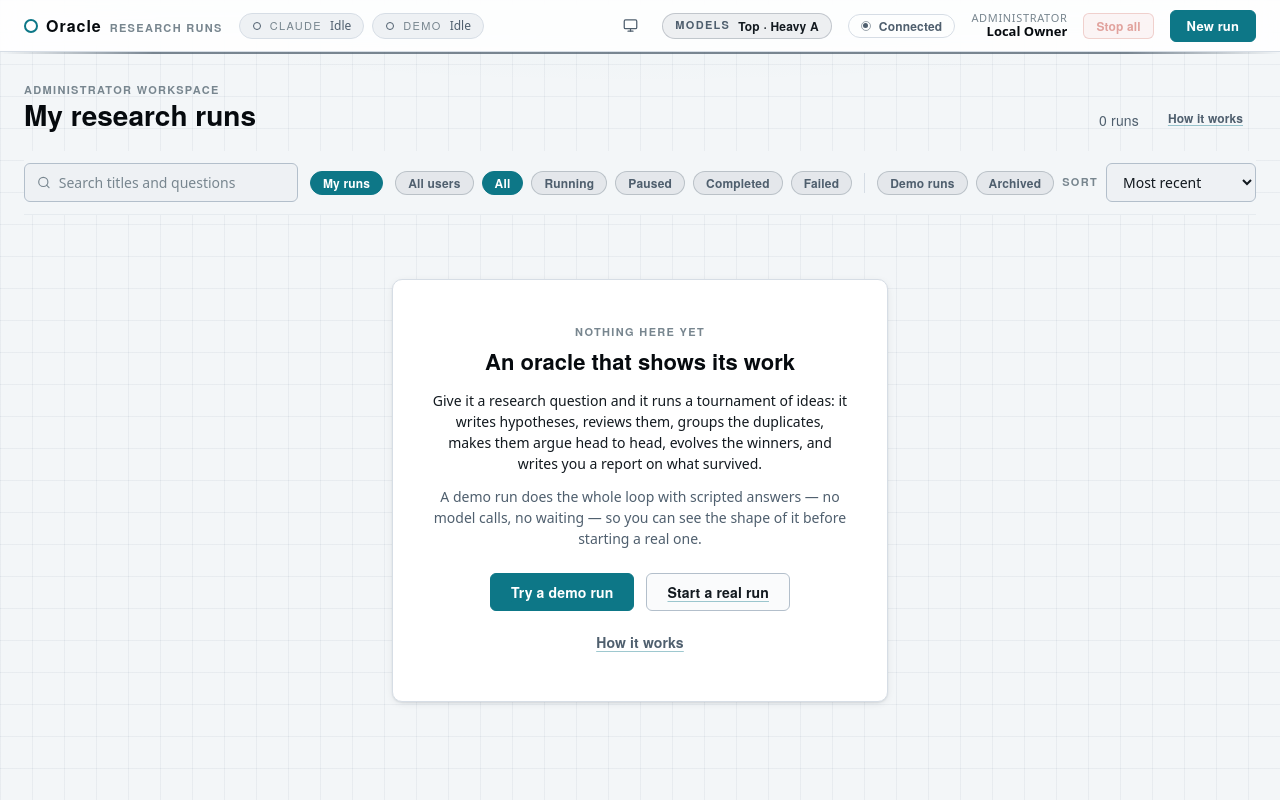
model editor — what it warns about › flags a step that searches the web set to a model that cannot
Click the button "Models Top · Heavy A".
click(747, 26)  # box [662,12,832,38]
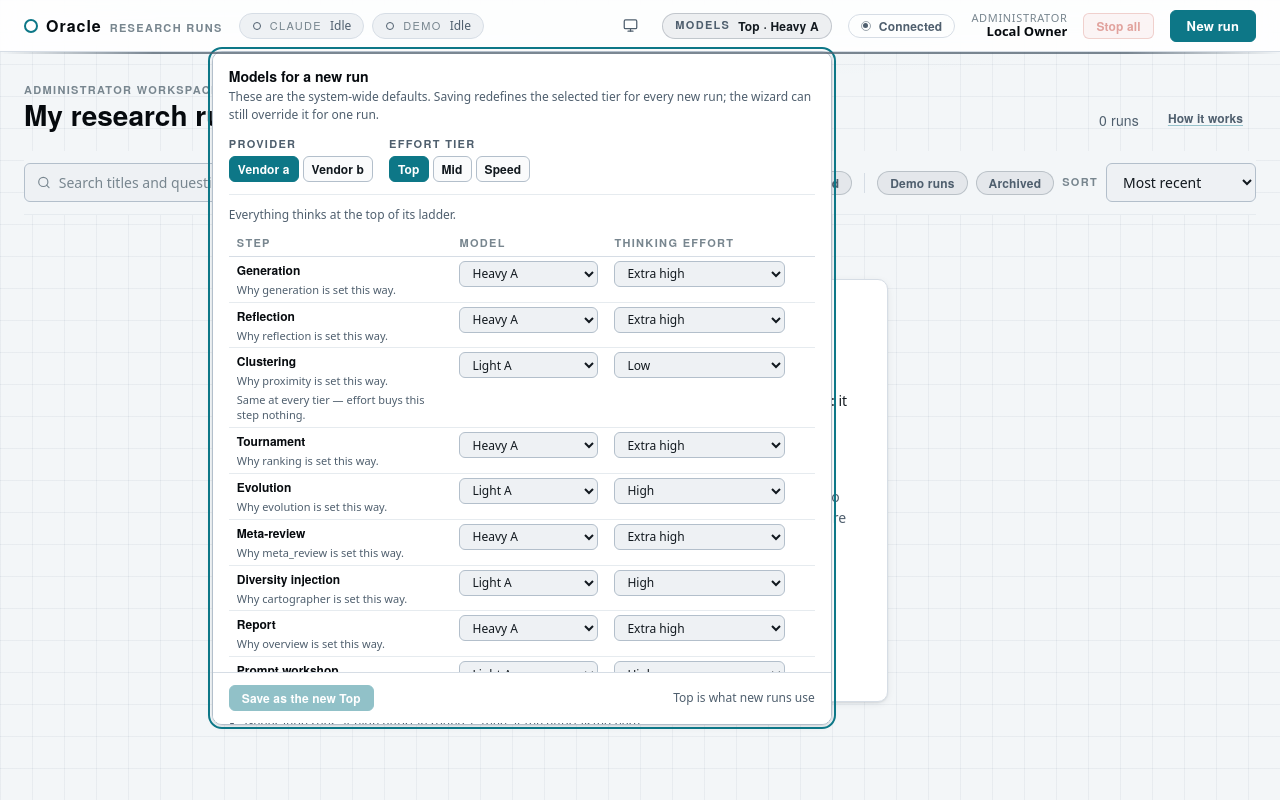
Expected: the text "search the web" is not shown
Result: the 1st dropdown named "Model for Generation" is shown
Select "Light B" in the 1st dropdown named "Model for Generation" at (529, 274), box [460,261,598,287]
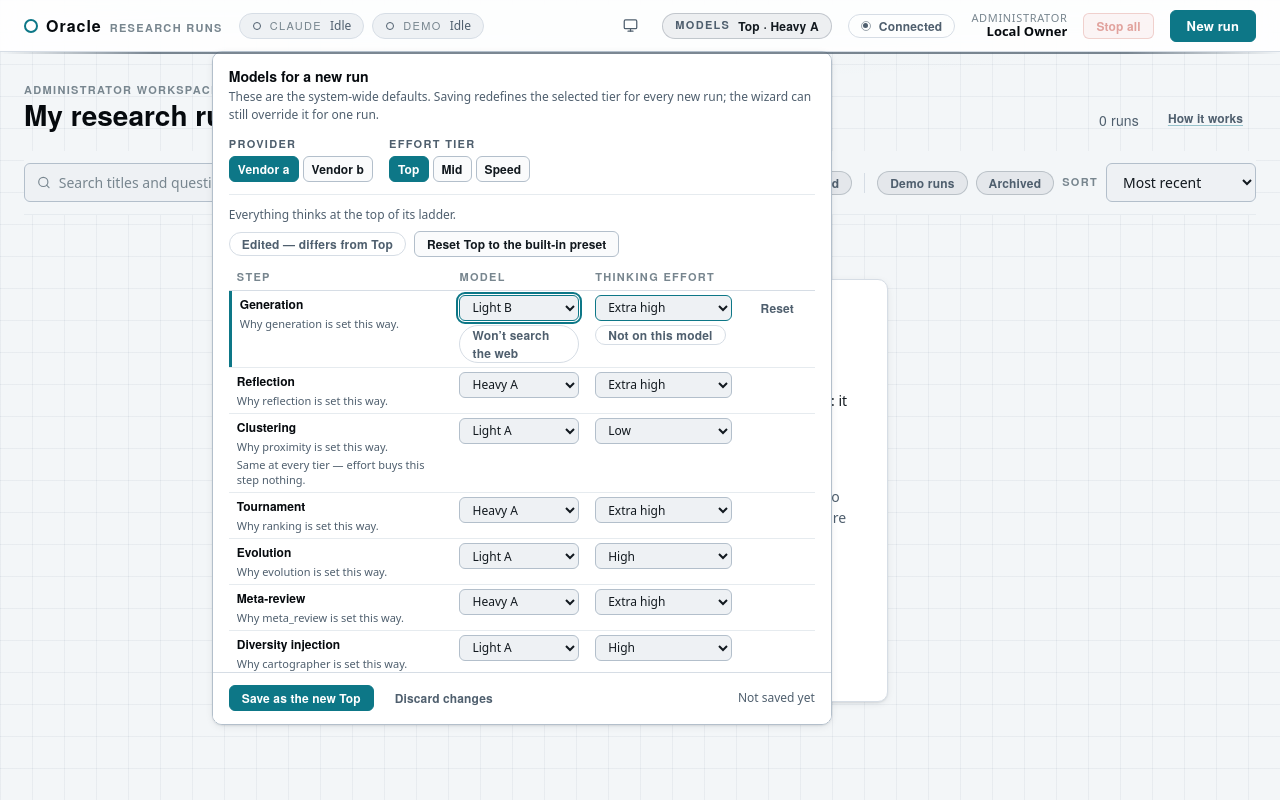
Result: the text "Won’t search the web" is shown at [460,325,579,363]
